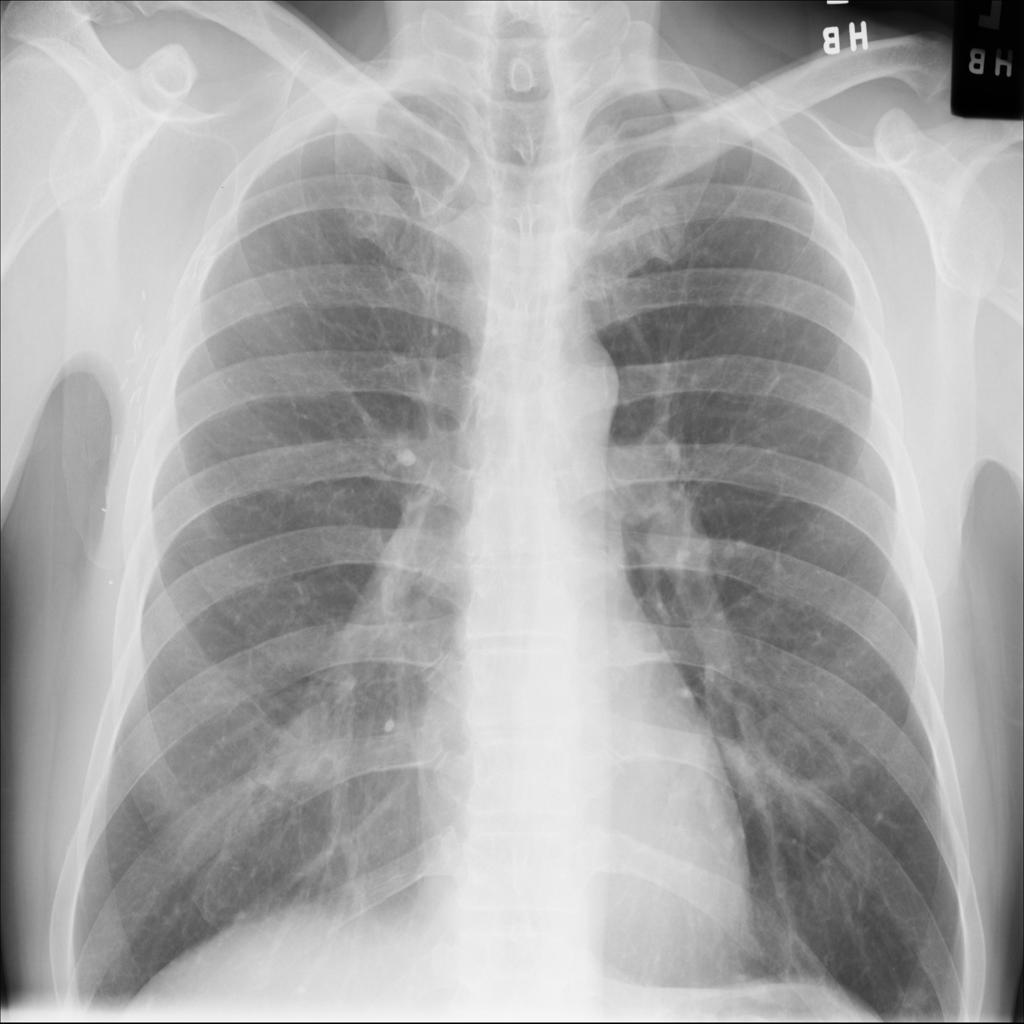nodule: (265, 689, 368, 807)
